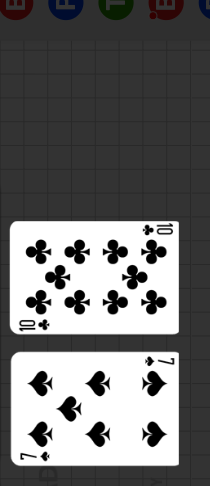10C: (140, 223, 175, 238)
7S: (18, 450, 52, 463)
